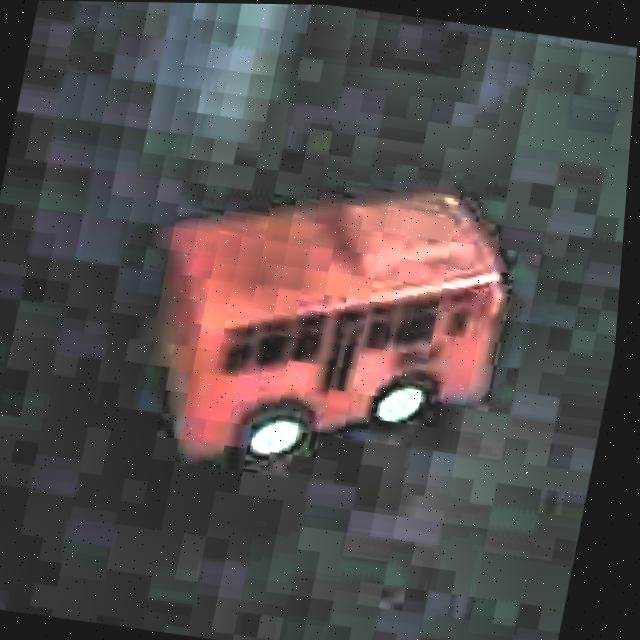bus: (116, 147, 541, 504)
